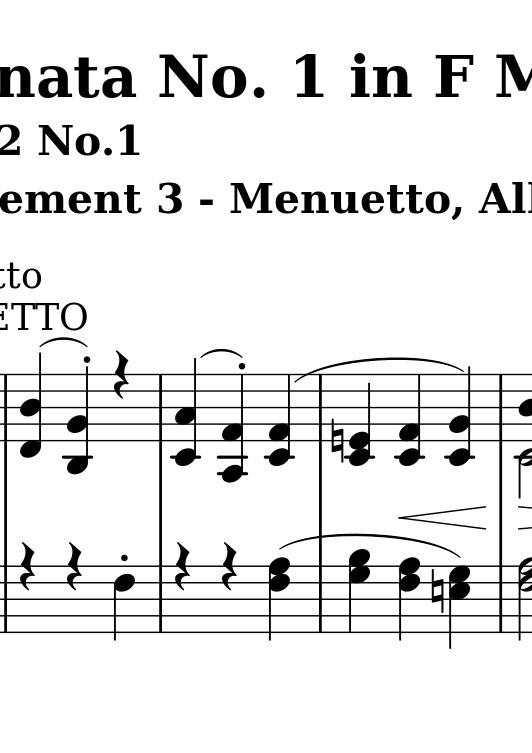4_-1_4: (19, 351, 44, 458)
4_-2_0: (343, 373, 377, 466)
4_-2_1: (262, 372, 296, 467), (394, 371, 428, 466)
4_-2_2: (444, 365, 477, 467)
4_-2_3: (170, 357, 202, 468)
4_-3_2: (64, 366, 95, 475)
4_-4_1: (218, 372, 250, 484)
4_5_7: (447, 564, 473, 650)
4_6: (111, 563, 137, 642)
4_6_8: (398, 556, 422, 643), (267, 557, 291, 643)
4_7_9: (347, 547, 370, 636)
Crescendo_hairpin: (401, 503, 488, 532)
Natural: (429, 567, 445, 617), (329, 418, 345, 463)
Rests4: (218, 540, 238, 592), (112, 349, 132, 398), (65, 541, 84, 591), (19, 542, 38, 591), (173, 542, 191, 592)
Single_barline: (311, 563, 330, 633), (491, 372, 509, 442), (154, 373, 172, 440), (154, 564, 170, 634), (311, 374, 327, 442), (495, 564, 506, 637), (1, 568, 12, 633)
Slur: (278, 532, 464, 560), (293, 357, 465, 383), (37, 336, 89, 349), (199, 347, 245, 360)
